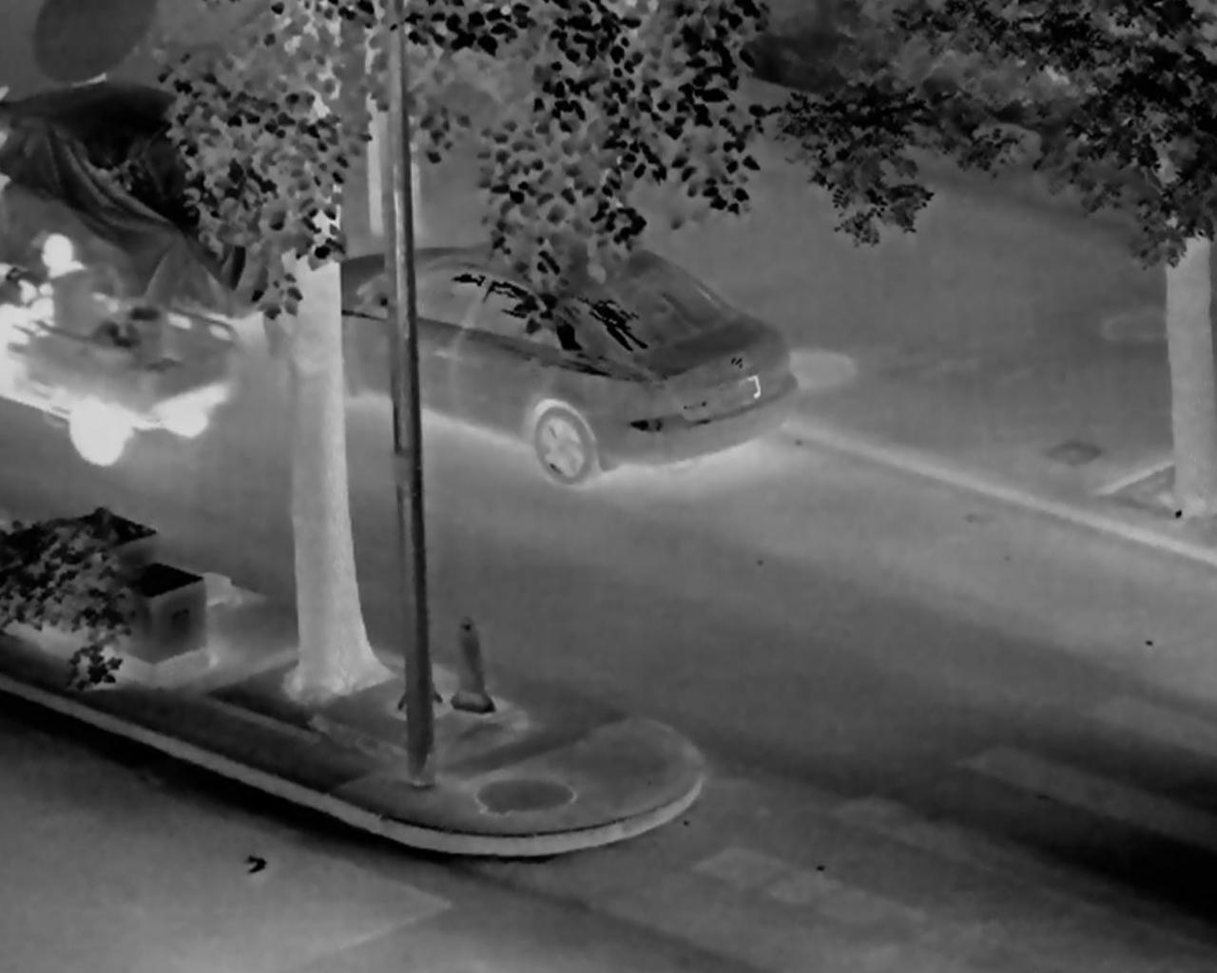person: (8, 235, 91, 354)
